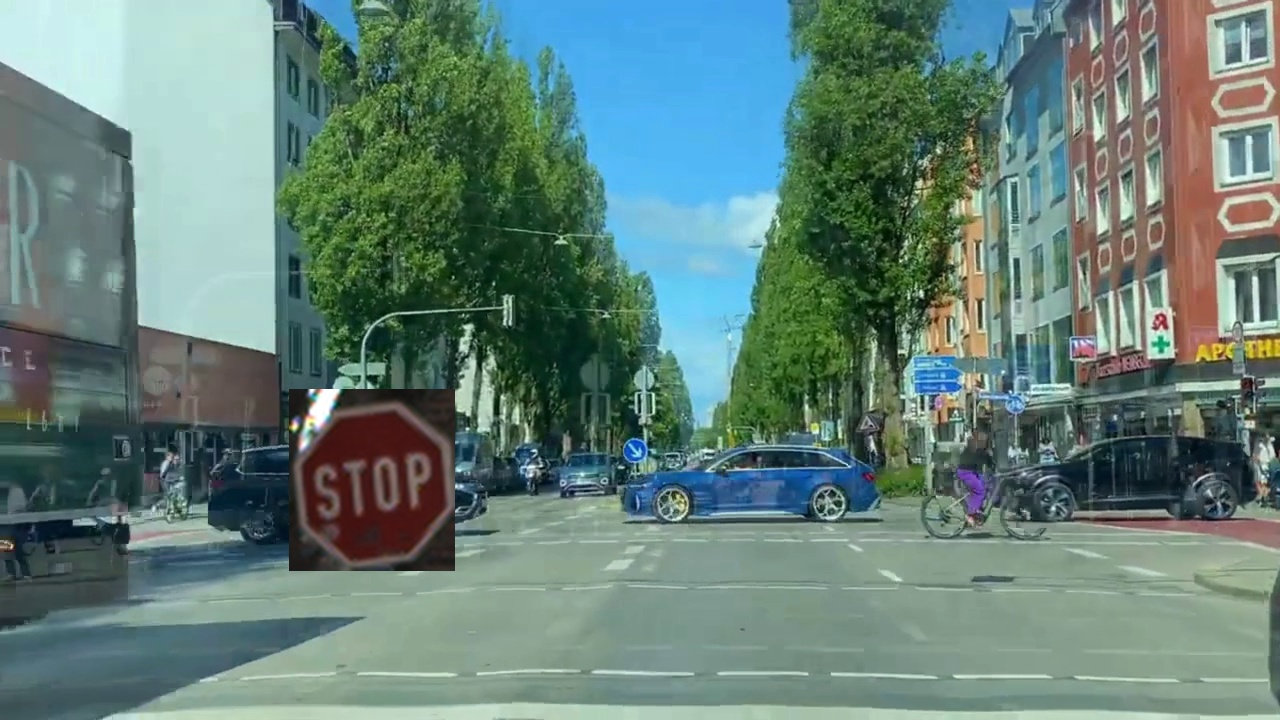Stop: (289, 389, 455, 571)
